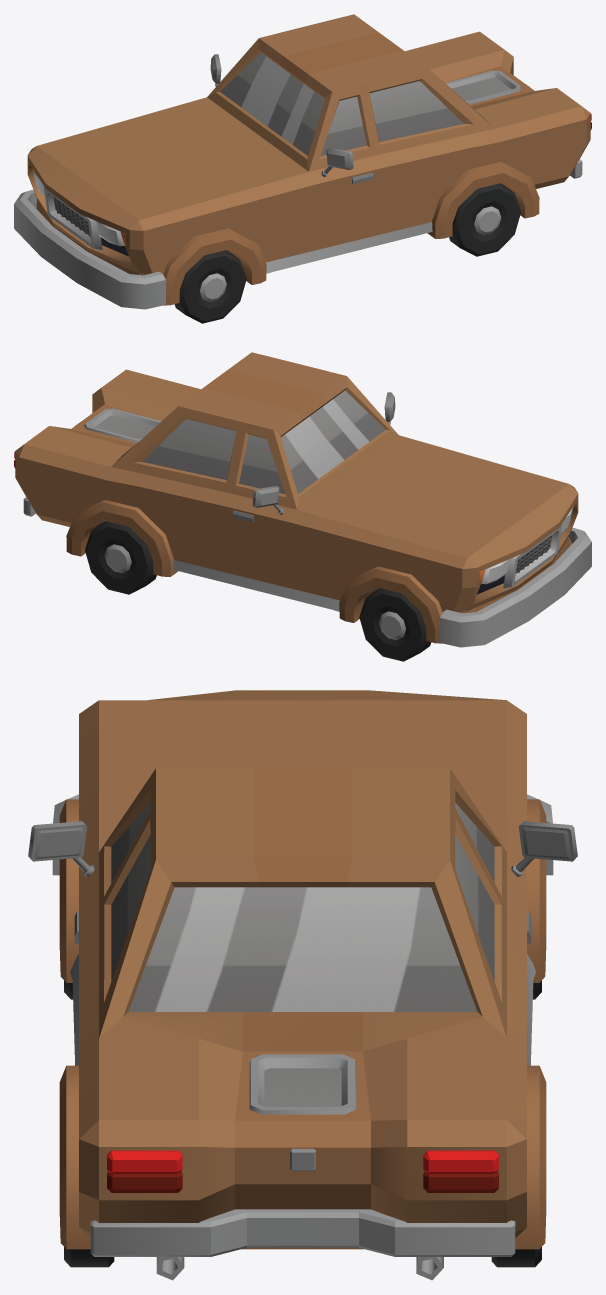
File: Car_18_I.gltf
The picture shows the model from 3 angles, top to bottom: view 1: azimuth 30°, elevation 25°; view 2: azimuth 150°, elevation 25°; view 3: azimuth 270°, elevation 25°; orthographic projection. The views are drawn at different scales.
Visible parts, largest first — view 1: Car_18_I, RL, FL; view 2: Car_18_I, RR, FR; view 3: Car_18_I.
Part boxes in pixels (left/top/right/bottom): Car_18_I: left=14, top=14, right=591, bottom=309; RL: left=449, top=183, right=520, bottom=256; FL: left=174, top=250, right=246, bottom=323; Car_18_I: left=14, top=352, right=591, bottom=647; RR: left=85, top=521, right=156, bottom=594; FR: left=359, top=588, right=431, bottom=661; Car_18_I: left=28, top=690, right=577, bottom=1280.
Bounding box in the file's own units: 3.78 × 1.34 × 1.85.
3 materials, 3 textured.
